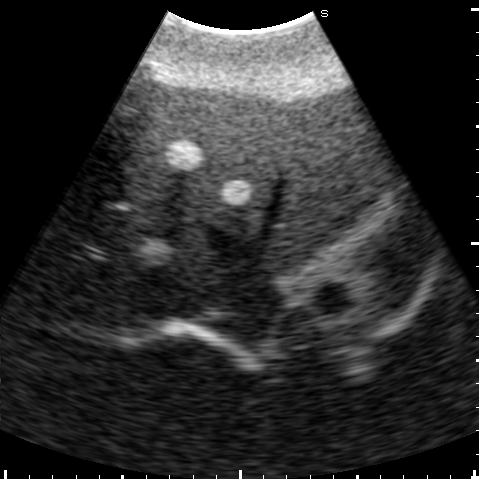S2: (273, 100, 384, 272)
S4: (120, 78, 292, 237)
S7: (55, 253, 153, 327)
S8: (79, 155, 211, 283)
Tumor: (165, 139, 204, 169), (138, 239, 172, 265), (220, 179, 251, 202)
